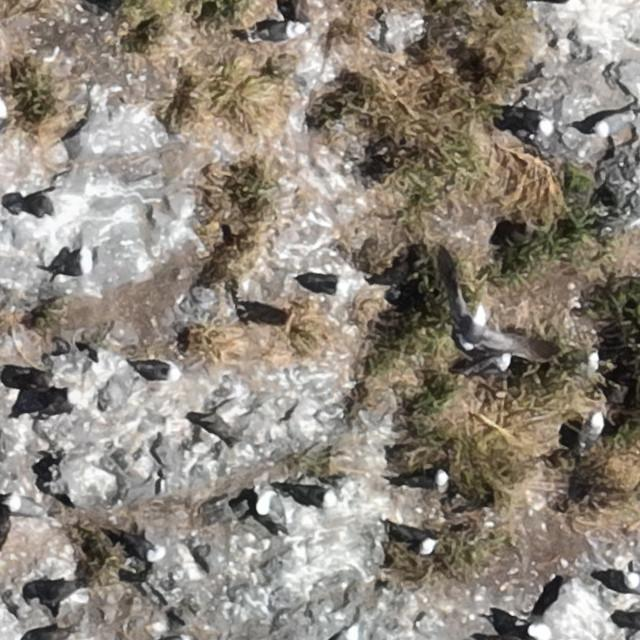F: (449, 277, 543, 356)
umineko: (37, 391, 82, 424), (399, 465, 453, 490), (257, 488, 286, 532), (300, 272, 350, 296), (257, 18, 308, 41), (131, 360, 182, 382), (54, 248, 91, 278), (296, 486, 338, 507), (402, 529, 435, 555), (518, 116, 556, 138), (467, 356, 511, 374), (129, 539, 164, 561), (596, 115, 630, 136), (517, 621, 552, 640), (11, 499, 40, 515), (586, 410, 603, 436), (586, 349, 599, 371), (626, 572, 638, 594)
